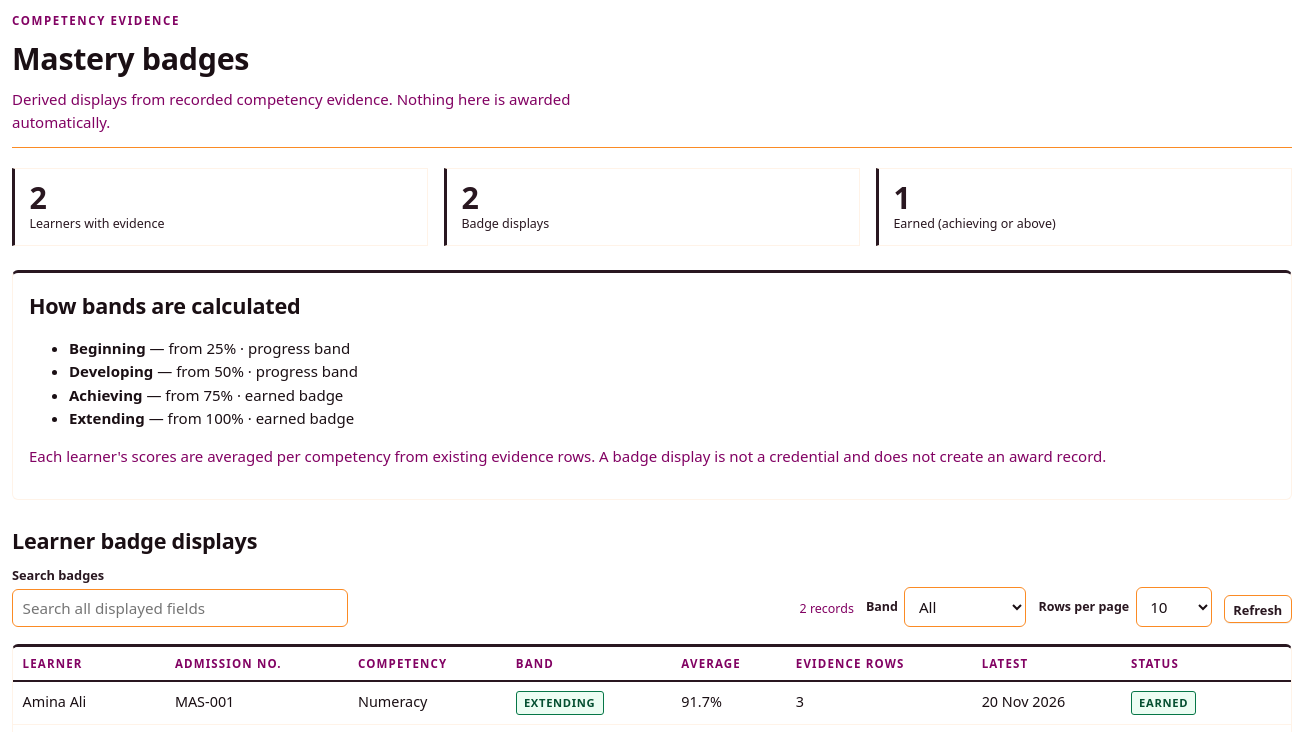
mastery badges › filters the staff table by band
This screenshot has width=1304, height=732.
Select "Developing" in the dropdown labelled "Band" at (965, 607), box [904,587,1026,627]
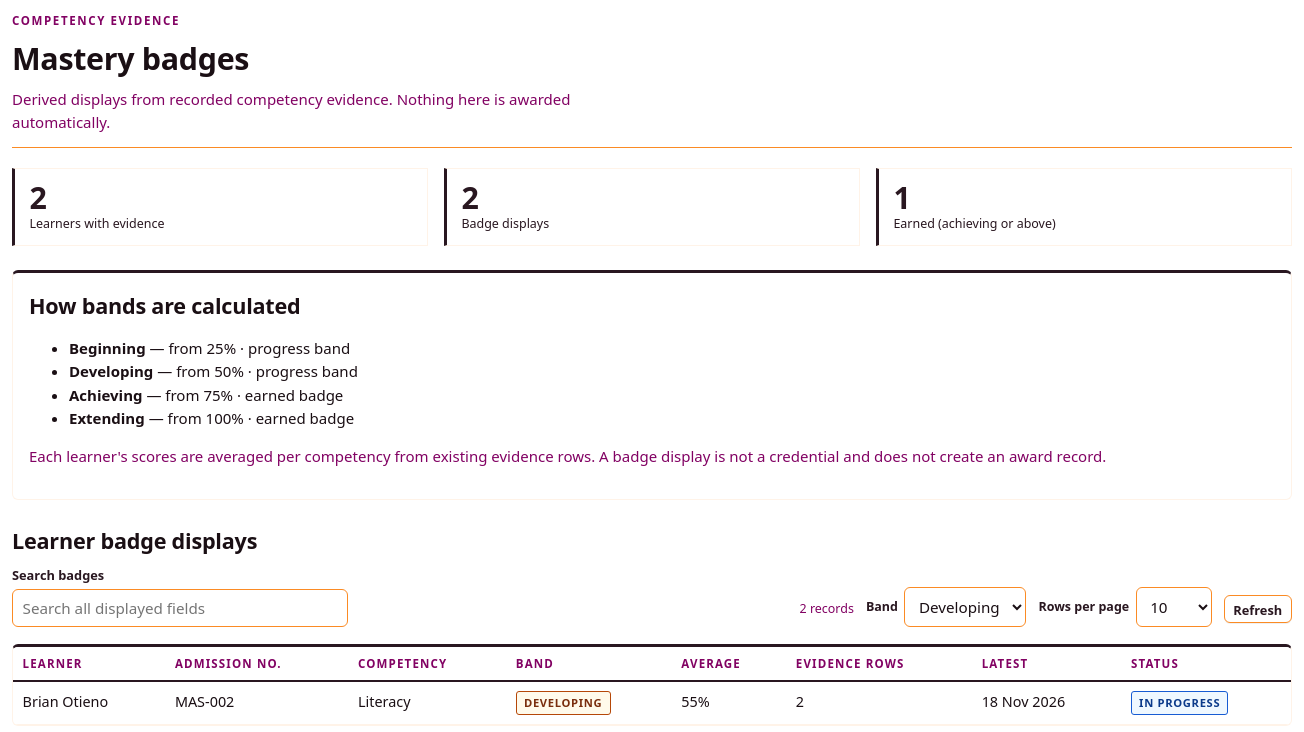
Check: the cell "Amina Ali" is gone
Check: the cell "Brian Otieno" is shown, box [13,682,165,724]
